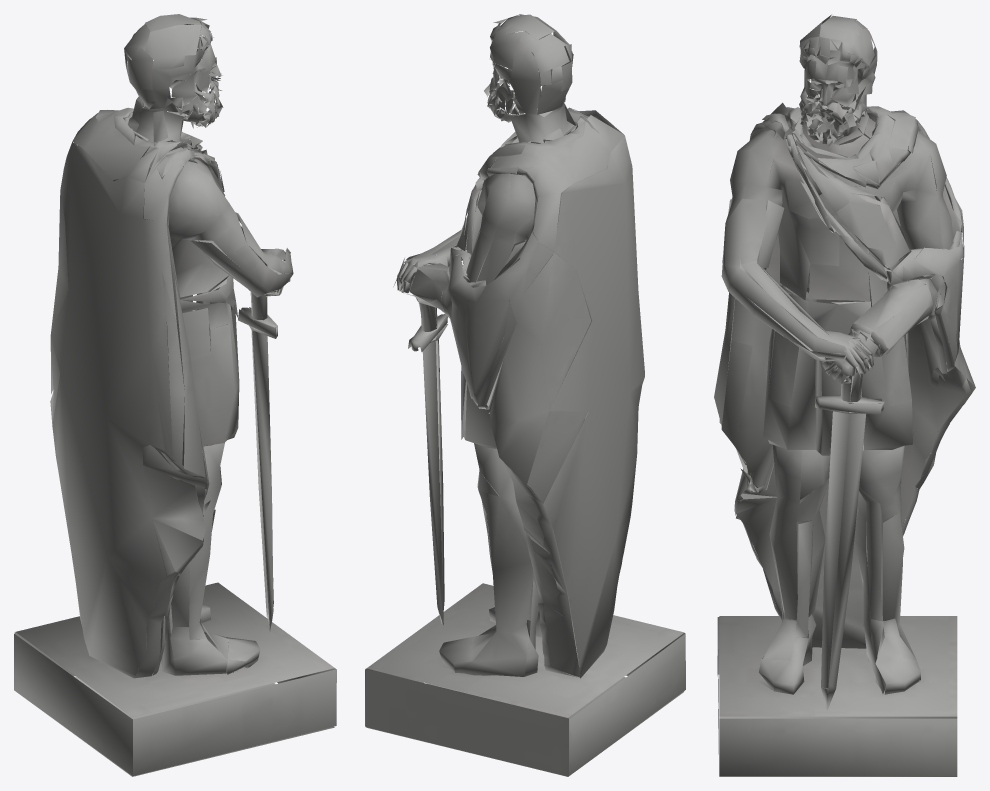
File: iv_colossus.glb
The picture shows the model from 3 angles, left to right: view 1: azimuth 30°, elevation 25°; view 2: azimuth 150°, elevation 25°; view 3: azimuth 270°, elevation 25°; orthographic projection. The views are drawn at different scales.
Visible parts, largest first — view 1: tripo_node_966492ed-a43f-4147-a3b1-b7b45471e8d2; view 2: tripo_node_966492ed-a43f-4147-a3b1-b7b45471e8d2; view 3: tripo_node_966492ed-a43f-4147-a3b1-b7b45471e8d2.
Boxes of the visible parts, x1=… form: tripo_node_966492ed-a43f-4147-a3b1-b7b45471e8d2: x1=14, y1=14, x2=336, y2=776; tripo_node_966492ed-a43f-4147-a3b1-b7b45471e8d2: x1=365, y1=14, x2=685, y2=776; tripo_node_966492ed-a43f-4147-a3b1-b7b45471e8d2: x1=714, y1=14, x2=975, y2=776.
Size of the model in its own units: 0.34 by 0.9992 by 0.3372.
Materials: 1 (1 with a texture image).
